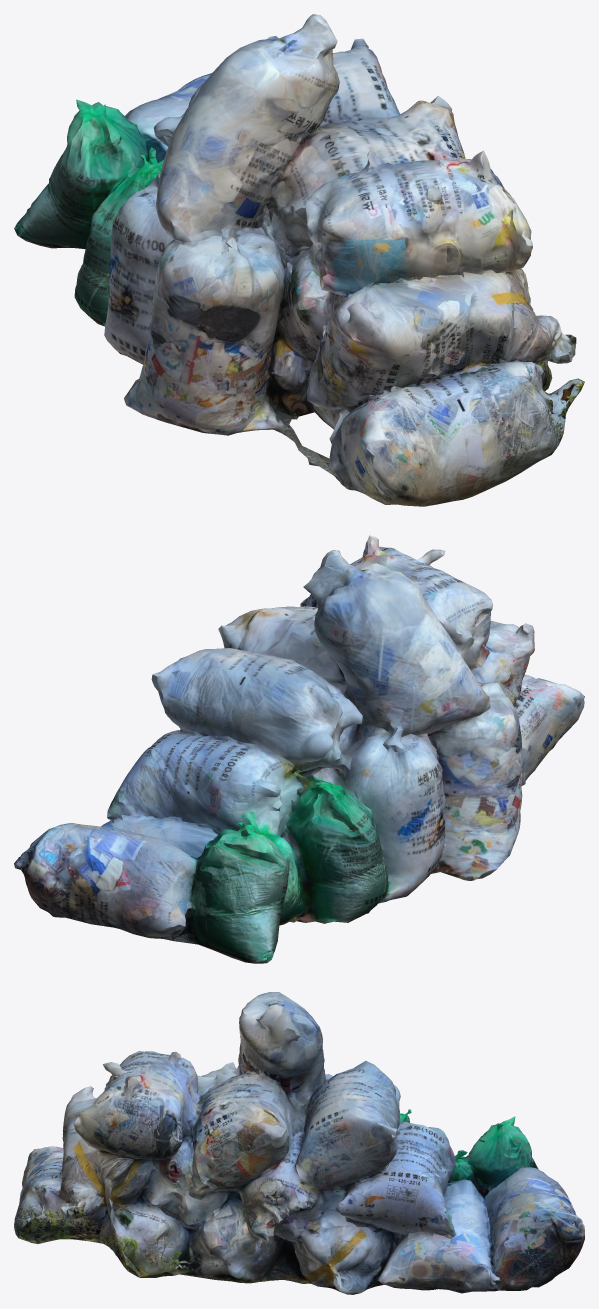
The model's file is trash2.gltf.
The picture shows the model from 3 angles, top to bottom: view 1: azimuth 30°, elevation 25°; view 2: azimuth 150°, elevation 25°; view 3: azimuth 270°, elevation 25°; orthographic projection. The views are drawn at different scales.
Visible parts, largest first — view 1: Default; view 2: Default; view 3: Default.
Part boxes in pixels (x1=…): Default: x1=14, y1=14, x2=584, y2=506; Default: x1=14, y1=535, x2=584, y2=963; Default: x1=14, y1=992, x2=584, y2=1294.
Bounding box in the file's own units: 0.00559 × 0.00502 × 0.0105.
1 material, 1 textured.
